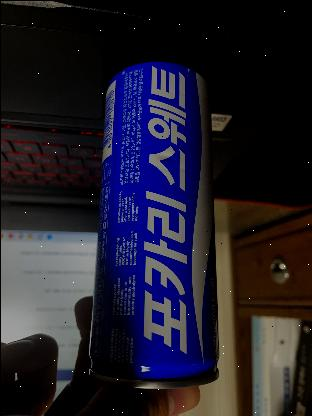Can: (85, 51, 225, 384)
